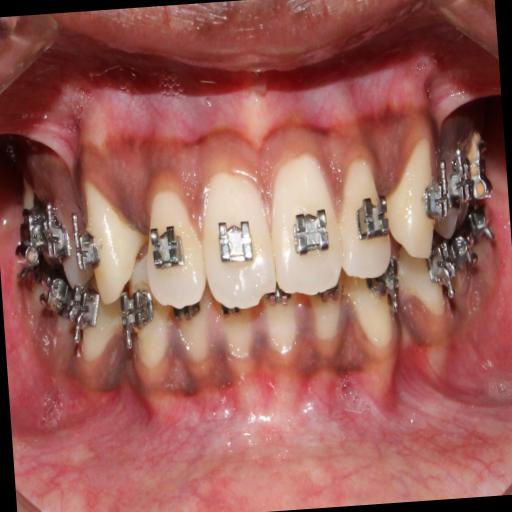correct_brace: (208, 216, 258, 274), (288, 203, 334, 262), (148, 220, 189, 274), (352, 191, 388, 242)
incorrect_brace: (140, 180, 206, 310), (334, 150, 396, 280)
